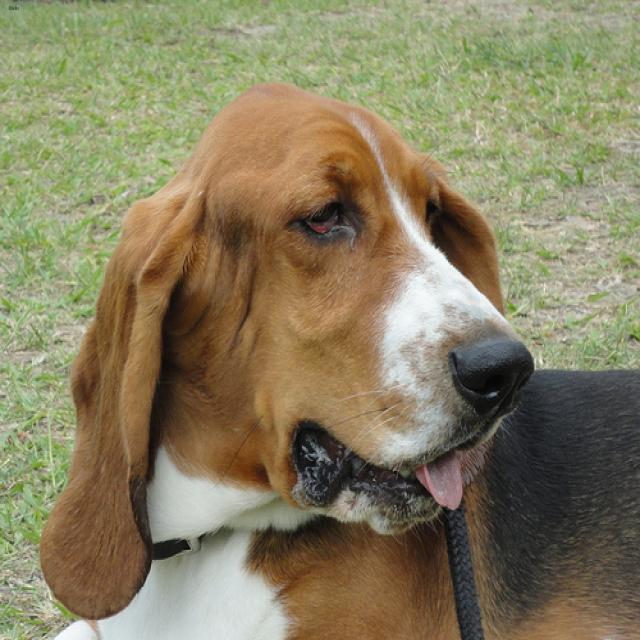dog-basset_hound: (27, 77, 637, 637)
